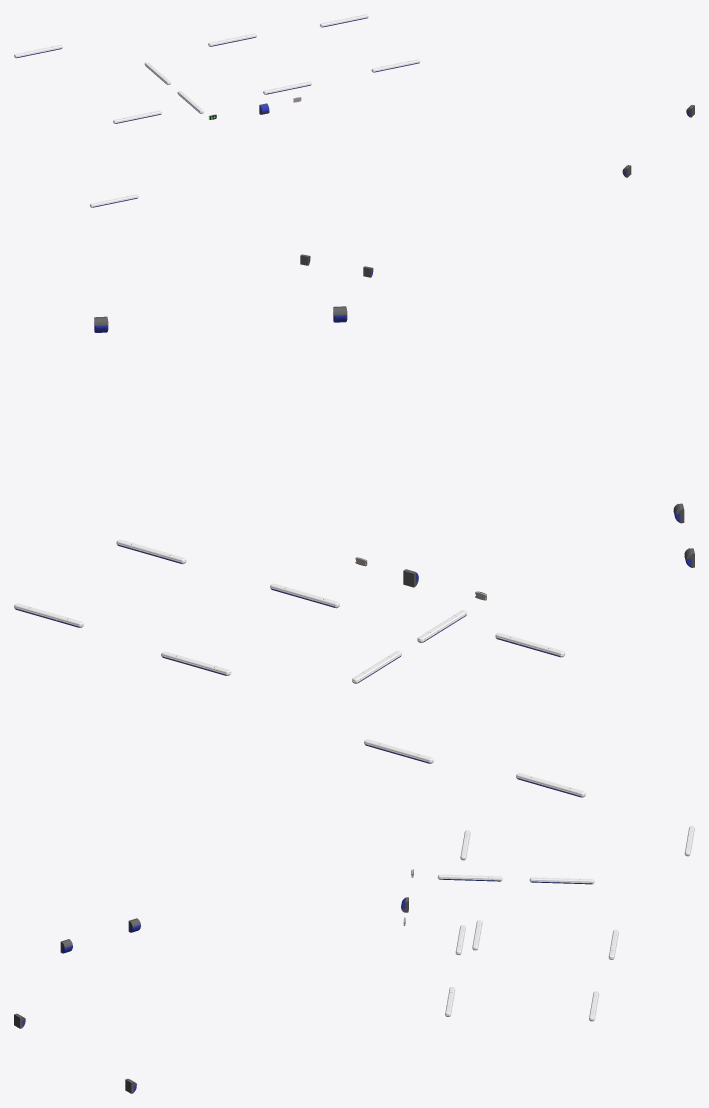
3 views of the same model, one above another, from view 1: azimuth 30°, elevation 25°; view 2: azimuth 150°, elevation 25°; view 3: azimuth 270°, elevation 25° (orthographic). The views are drawn at different scales.
Visible parts, largest first — view 1: 1, 2, 4; view 2: 1, 2, 4; view 3: 1, 4.
Part boxes in pixels (box(x1,y1,x2,y2)): 1: box(14, 14, 420, 207); 2: box(17, 17, 689, 275); 4: box(259, 103, 694, 277); 1: box(14, 539, 585, 797); 2: box(15, 313, 691, 797); 4: box(94, 306, 694, 587); 1: box(411, 826, 694, 1021); 4: box(14, 897, 408, 1093).
Size of the model in its own units: 15.93 by 3.12 by 16.71.
